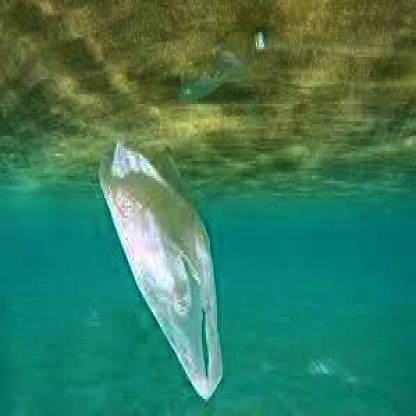pbag: (96, 139, 224, 404)
pbottle: (178, 28, 267, 107)
